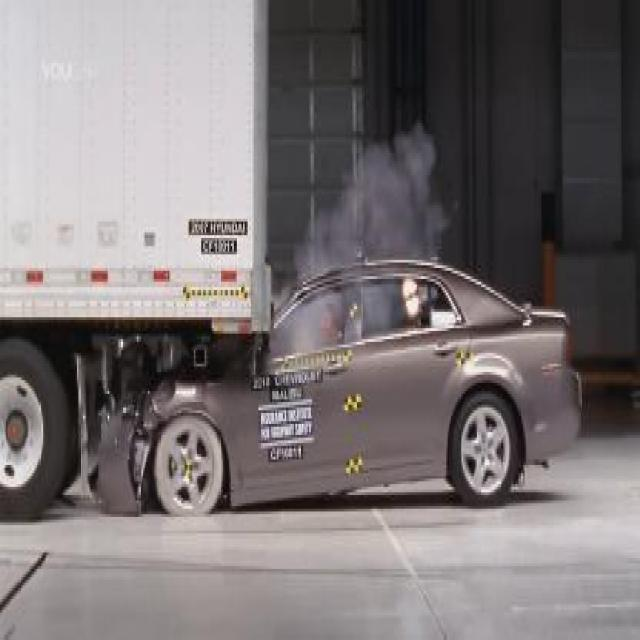accident: (0, 0, 592, 522)
